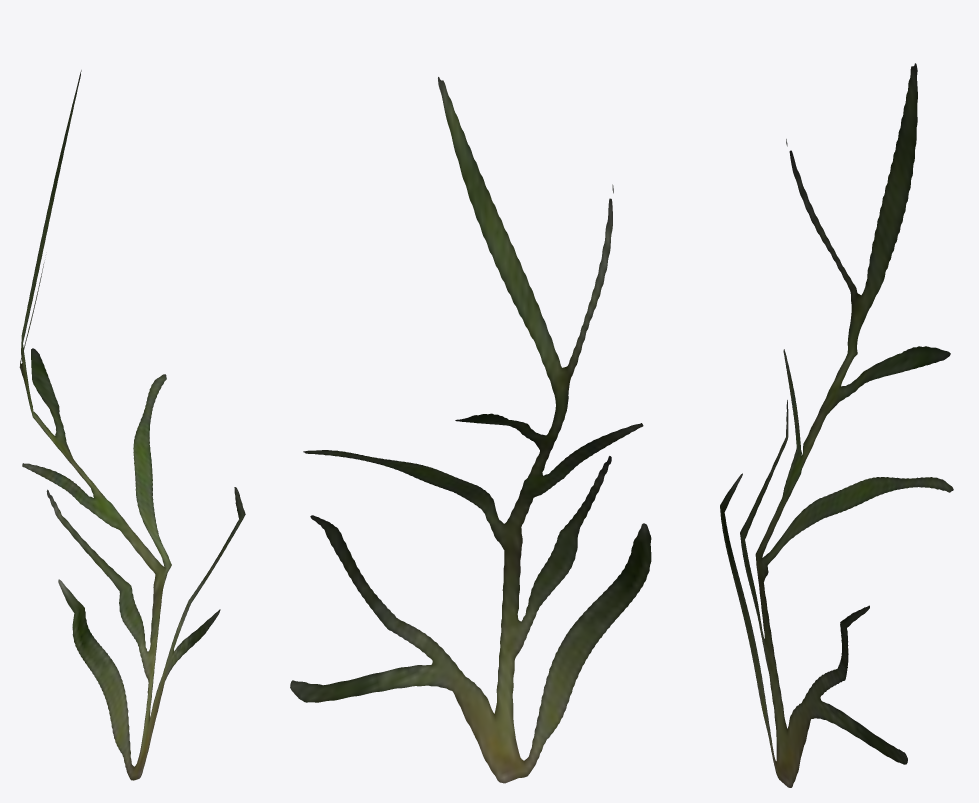
The model's file is grass_bermuda_01_medium_a.gltf.
The picture shows the model from 3 angles, left to right: view 1: azimuth 30°, elevation 25°; view 2: azimuth 150°, elevation 25°; view 3: azimuth 270°, elevation 25°; orthographic projection. The views are drawn at different scales.
Visible parts, largest first — view 1: grass_bermuda_01_medium_a; view 2: grass_bermuda_01_medium_a; view 3: grass_bermuda_01_medium_a.
Part boxes in pixels (left/top/right/bottom): grass_bermuda_01_medium_a: left=19, top=70, right=245, bottom=780; grass_bermuda_01_medium_a: left=290, top=77, right=651, bottom=783; grass_bermuda_01_medium_a: left=720, top=63, right=953, bottom=787.
Bounding box in the file's own units: 0.0385 × 0.0978 × 0.0286.
Materials: 1 (1 with a texture image).
